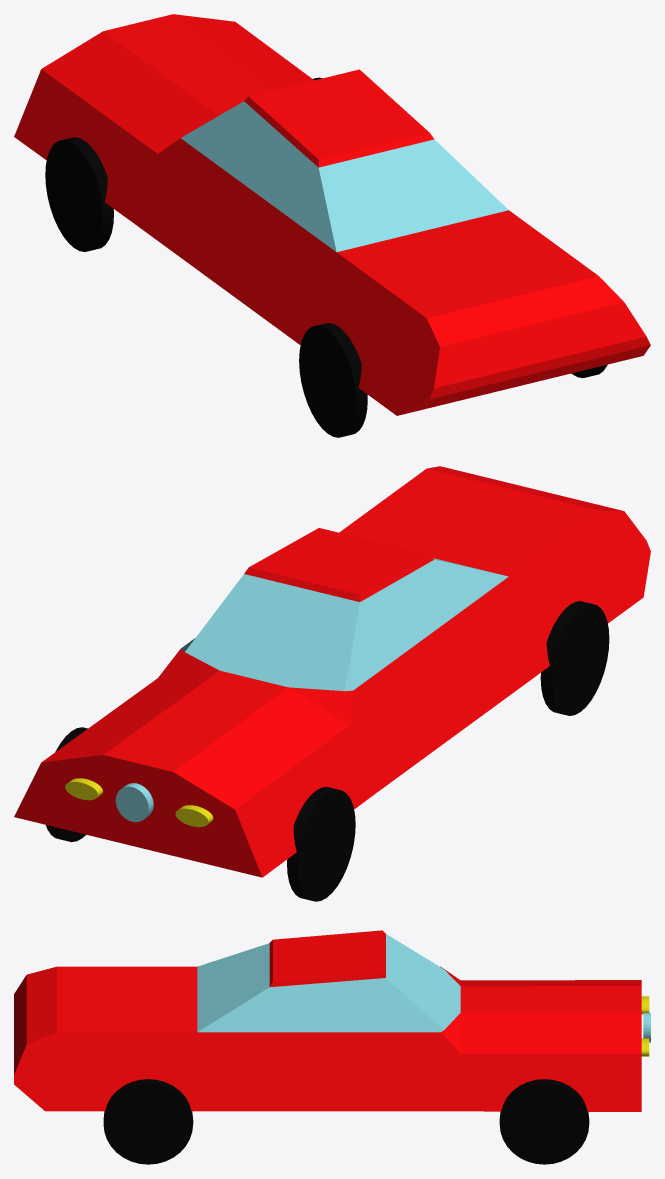
Rendered from GameJamToy2.fbx.
3 views of the same model, one above another, from view 1: azimuth 30°, elevation 25°; view 2: azimuth 150°, elevation 25°; view 3: azimuth 270°, elevation 25° (orthographic). The views are drawn at different scales.
Visible parts, largest first — view 1: Cube, Cylinder, Cylinder.001; view 2: Cube, Cylinder, Cylinder.001; view 3: Cube, Cylinder.003, Cylinder.002.
Boxes of the visible parts, x1,y1,x2,y2 form: Cube: (14,14,650,415); Cylinder: (299,323,367,437); Cylinder.001: (45,137,113,251); Cube: (14,466,650,877); Cylinder: (540,601,609,715); Cylinder.001: (287,787,355,901); Cube: (14,930,650,1111); Cylinder.003: (499,1079,589,1164); Cylinder.002: (103,1079,193,1164).
Size of the model in its own units: 218 by 171 by 602.
